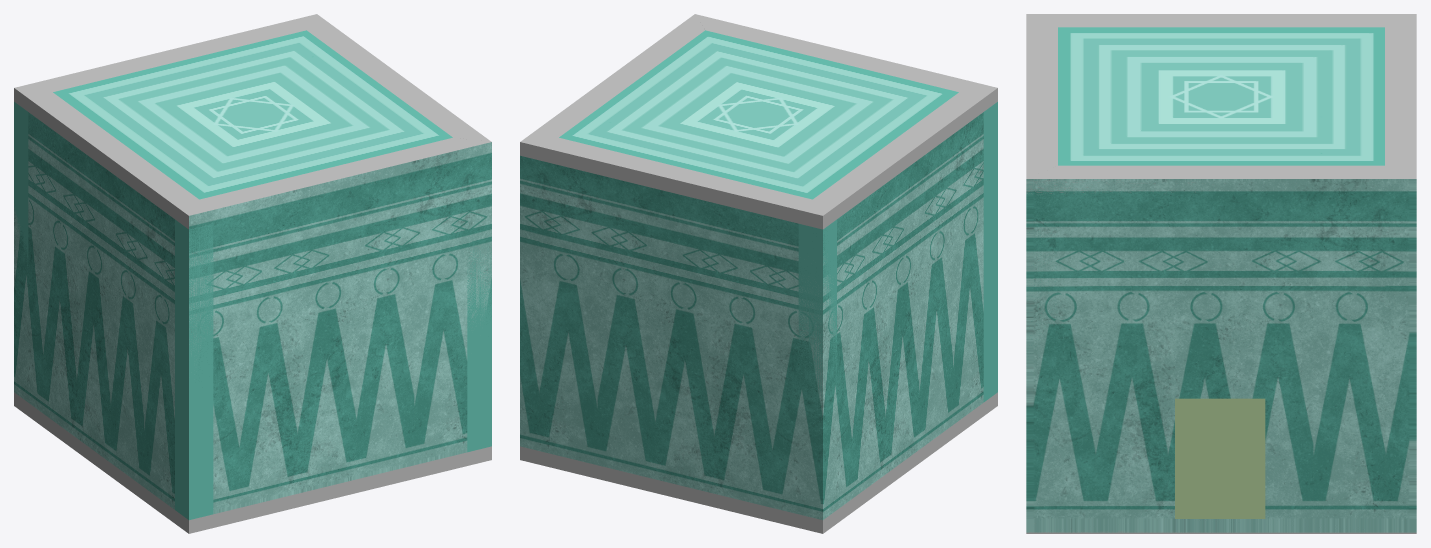
File: Break the loop_level1.fbx
3 renders of one model, left to right at view 1: azimuth 30°, elevation 25°; view 2: azimuth 150°, elevation 25°; view 3: azimuth 270°, elevation 25°, orthographic. The views are drawn at different scales.
Parts seen in each view (by area): view 1: Plane.003, Plane.005, Plane.016, Cube.002, Plane.008, Cube.003, Plane.011, Plane.010, Plane.001, Plane.007, Plane.013, Cube; view 2: Plane.002, Plane.005, Plane.016, Plane.001, Plane.008, Cube, Cube.002, Plane.009, Plane.010, Plane.007, Plane.013; view 3: Plane.004, Plane.016, Plane.006, Plane.007, Plane.008, Plane.001, Plane.010, Plane.012.
Part boxes in pixels (left/top/right/bottom): Plane.003: left=189, top=142, right=491, bottom=514; Plane.005: left=14, top=112, right=174, bottom=509; Plane.016: left=53, top=30, right=452, bottom=199; Cube.002: left=175, top=219, right=213, bottom=520; Plane.008: left=14, top=88, right=198, bottom=229; Cube.003: left=467, top=231, right=491, bottom=452; Plane.011: left=189, top=446, right=491, bottom=533; Plane.010: left=189, top=137, right=490, bottom=215; Plane.001: left=14, top=14, right=316, bottom=92; Plane.007: left=307, top=14, right=491, bottom=141; Plane.013: left=14, top=392, right=188, bottom=533; Cube: left=14, top=102, right=28, bottom=271; Plane.002: left=520, top=155, right=822, bottom=520; Plane.005: left=823, top=112, right=983, bottom=519; Plane.016: left=559, top=30, right=958, bottom=199; Plane.001: left=520, top=137, right=822, bottom=229; Plane.008: left=813, top=88, right=997, bottom=229; Cube: left=798, top=219, right=836, bottom=422; Cube.002: left=983, top=102, right=997, bottom=402; Plane.009: left=520, top=446, right=822, bottom=533; Plane.010: left=695, top=14, right=997, bottom=92; Plane.007: left=520, top=14, right=704, bottom=141; Plane.013: left=823, top=392, right=997, bottom=533; Plane.004: left=1026, top=179, right=1416, bottom=532; Plane.016: left=1058, top=27, right=1384, bottom=165; Plane.006: left=1175, top=398, right=1265, bottom=518; Plane.007: left=1026, top=165, right=1415, bottom=193; Plane.008: left=1027, top=14, right=1415, bottom=27; Plane.001: left=1385, top=14, right=1416, bottom=178; Plane.010: left=1026, top=14, right=1057, bottom=178; Plane.012: left=1026, top=531, right=1416, bottom=533.
Size of the model in its own units: 503 by 505 by 503.
